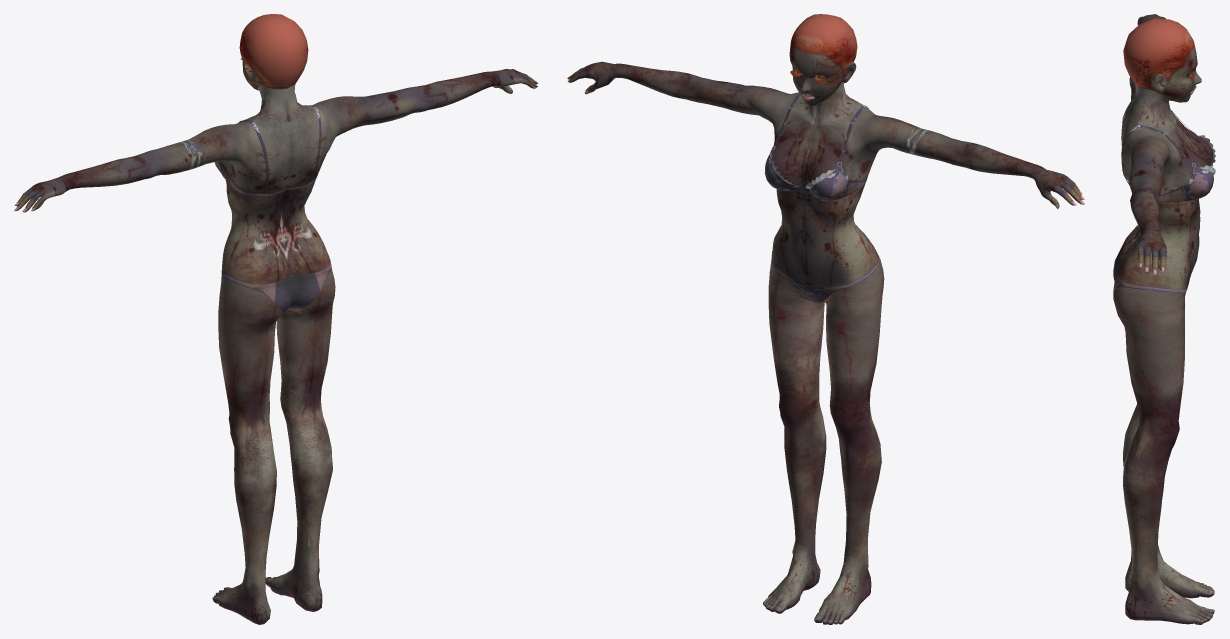
The model's file is aya.obj.
3 views of the same model, side by side, from view 1: azimuth 30°, elevation 25°; view 2: azimuth 150°, elevation 25°; view 3: azimuth 270°, elevation 25° (orthographic).
Parts seen in each view (by area): view 1: pl01_00_23_0, pl01_00_20_0, pl01_00_18_0, pl01_00_11_8, pl01_00_15_0, pl01_00_13_9, pl01_00_5_1, pl01_00_21_0, pl01_00_16_0, pl01_00_5_0, pl01_00_11_89; view 2: pl01_00_23_0, pl01_00_20_0, pl01_00_18_0, pl01_00_15_0, pl01_00_11_8, pl01_00_13_9, pl01_00_5_1, pl01_00_16_0, pl01_00_5_0, pl01_00_21_0, pl01_00_11_26; view 3: pl01_00_20_0, pl01_00_18_0, pl01_00_5_1, pl01_00_13_9, pl01_00_15_0, pl01_00_23_0, pl01_00_16_0, pl01_00_5_0, pl01_00_13_90, pl01_00_13_27, pl01_00_21_0, pl01_00_13_19.
Boxes of the visible parts, <box> form: pl01_00_23_0: <box>212,276,282,624</box>; pl01_00_20_0: <box>265,264,335,611</box>; pl01_00_18_0: <box>222,182,329,283</box>; pl01_00_11_8: <box>58,123,248,190</box>; pl01_00_15_0: <box>244,84,319,193</box>; pl01_00_13_9: <box>309,71,500,140</box>; pl01_00_5_1: <box>239,14,308,74</box>; pl01_00_21_0: <box>221,258,331,312</box>; pl01_00_16_0: <box>214,105,321,196</box>; pl01_00_5_0: <box>241,55,305,90</box>; pl01_00_11_89: <box>220,121,266,193</box>; pl01_00_23_0: <box>814,260,884,624</box>; pl01_00_20_0: <box>763,255,826,613</box>; pl01_00_18_0: <box>772,183,878,286</box>; pl01_00_15_0: <box>771,82,863,187</box>; pl01_00_11_8: <box>852,111,1045,180</box>; pl01_00_13_9: <box>610,63,795,128</box>; pl01_00_5_1: <box>789,14,857,73</box>; pl01_00_16_0: <box>765,93,868,201</box>; pl01_00_5_0: <box>791,58,856,105</box>; pl01_00_21_0: <box>772,251,880,302</box>; pl01_00_11_26: <box>1035,169,1074,200</box>; pl01_00_20_0: <box>1113,286,1214,624</box>; pl01_00_18_0: <box>1118,198,1200,289</box>; pl01_00_5_1: <box>1123,18,1197,74</box>; pl01_00_13_9: <box>1128,131,1174,235</box>; pl01_00_15_0: <box>1121,84,1213,187</box>; pl01_00_23_0: <box>1113,276,1214,598</box>; pl01_00_16_0: <box>1121,98,1215,202</box>; pl01_00_5_0: <box>1126,66,1201,102</box>; pl01_00_13_90: <box>1123,130,1194,195</box>; pl01_00_13_27: <box>1137,231,1166,260</box>; pl01_00_21_0: <box>1113,253,1189,292</box>; pl01_00_13_19: <box>1125,128,1182,175</box>.
Size of the model in its own units: 153 by 165 by 26.17.
